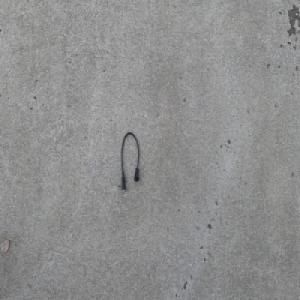Wire: (120, 130, 139, 193)
